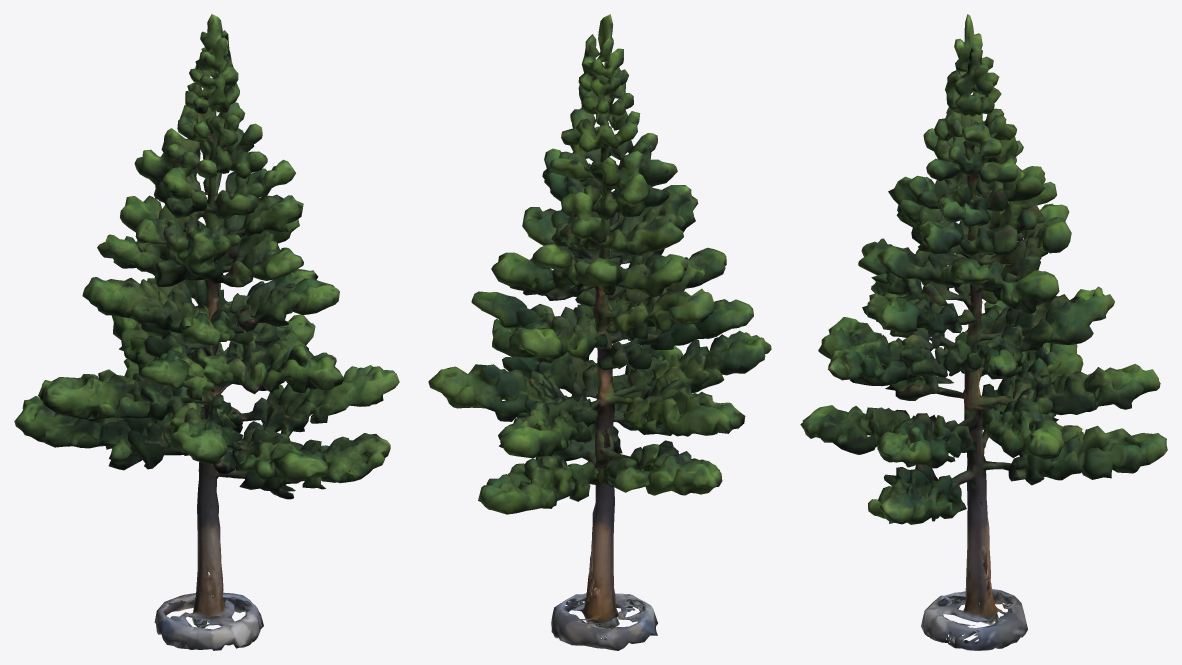
Rendered from AI_WideSpruceTree.fbx.
The picture shows the model from 3 angles, left to right: view 1: azimuth 30°, elevation 25°; view 2: azimuth 150°, elevation 25°; view 3: azimuth 270°, elevation 25°; orthographic projection.
Visible parts, largest first — view 1: Mesh_0; view 2: Mesh_0; view 3: Mesh_0.
Part boxes in pixels (x1,y1,x2,y2): Mesh_0: (14, 14, 399, 650); Mesh_0: (428, 14, 771, 650); Mesh_0: (800, 14, 1167, 650).
Size of the model in its own units: 103 by 202 by 110.
1 material, 1 textured.
